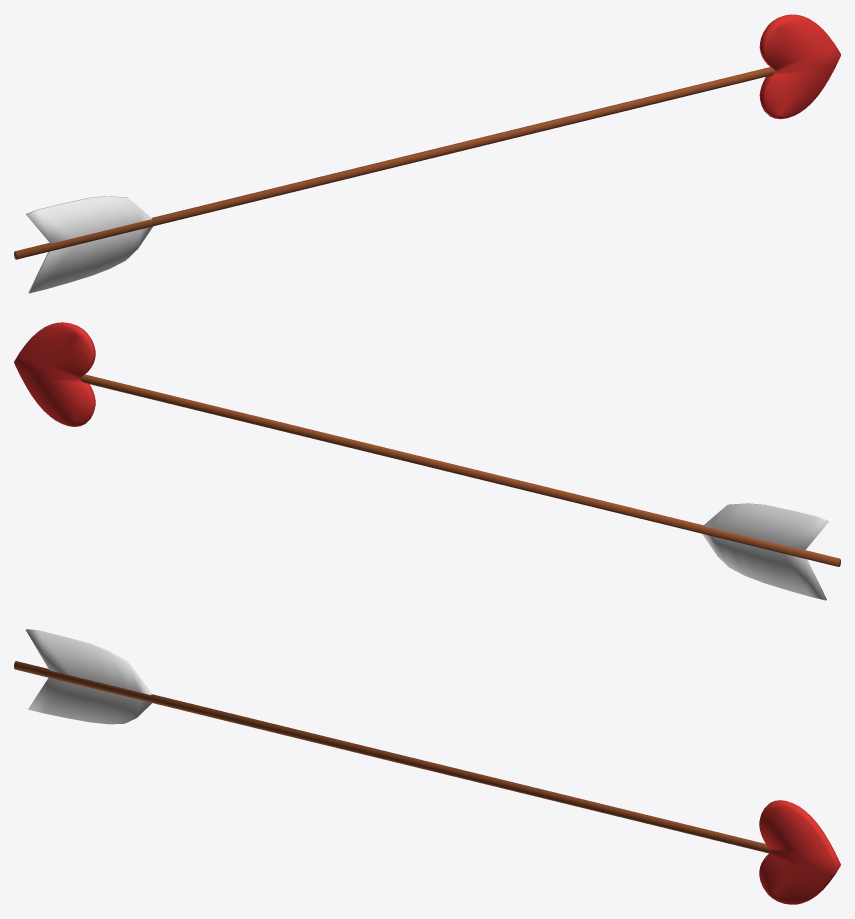
Rendered from Arrow.fbx.
3 renders of one model, top to bottom at view 1: azimuth 30°, elevation 25°; view 2: azimuth 150°, elevation 25°; view 3: azimuth 330°, elevation 25°, orthographic.
Visible parts, largest first — view 1: Arrow; view 2: Arrow; view 3: Arrow.
Boxes of the visible parts, left/top/right/bottom form: Arrow: left=14, top=14, right=840, bottom=293; Arrow: left=14, top=322, right=840, bottom=600; Arrow: left=14, top=629, right=840, bottom=904.
Size of the model in its own units: 387 by 45.8 by 4.55.
